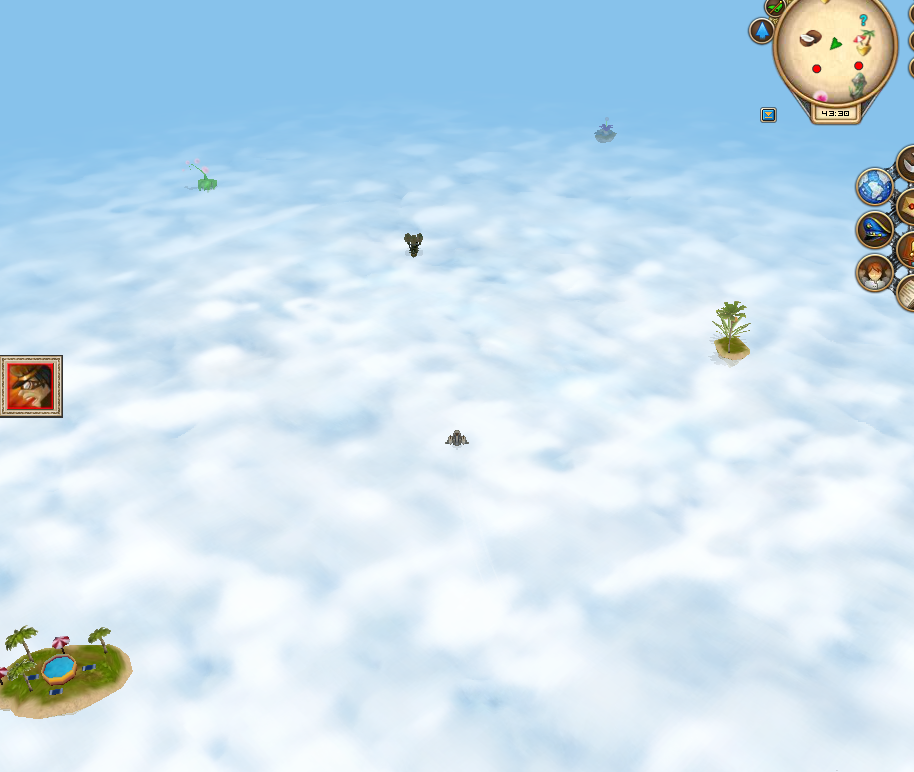dandelion-full: (185, 154, 222, 196)
palm: (705, 297, 754, 368)
